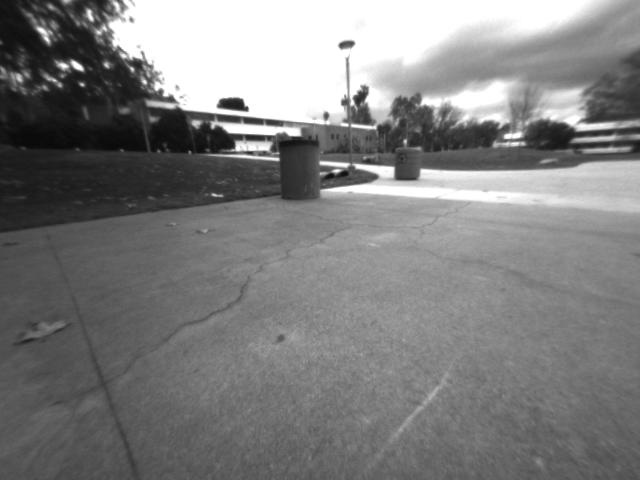trashcan: (274, 138, 329, 204), (392, 146, 422, 184)
